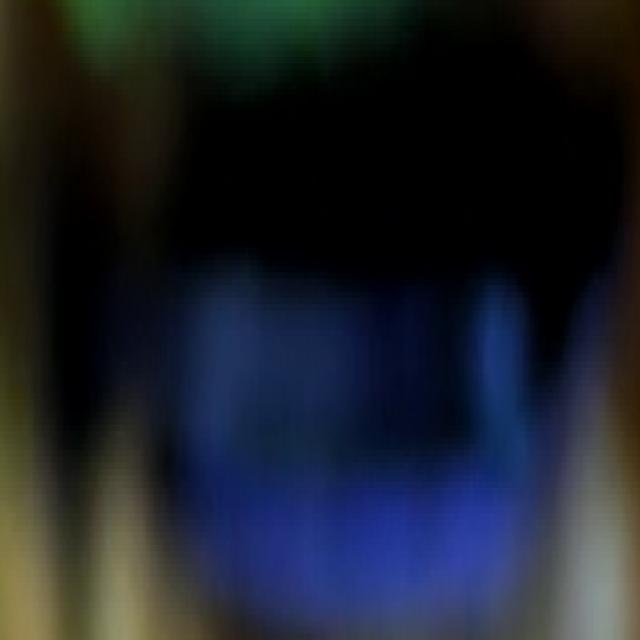fish: (0, 0, 638, 634)
